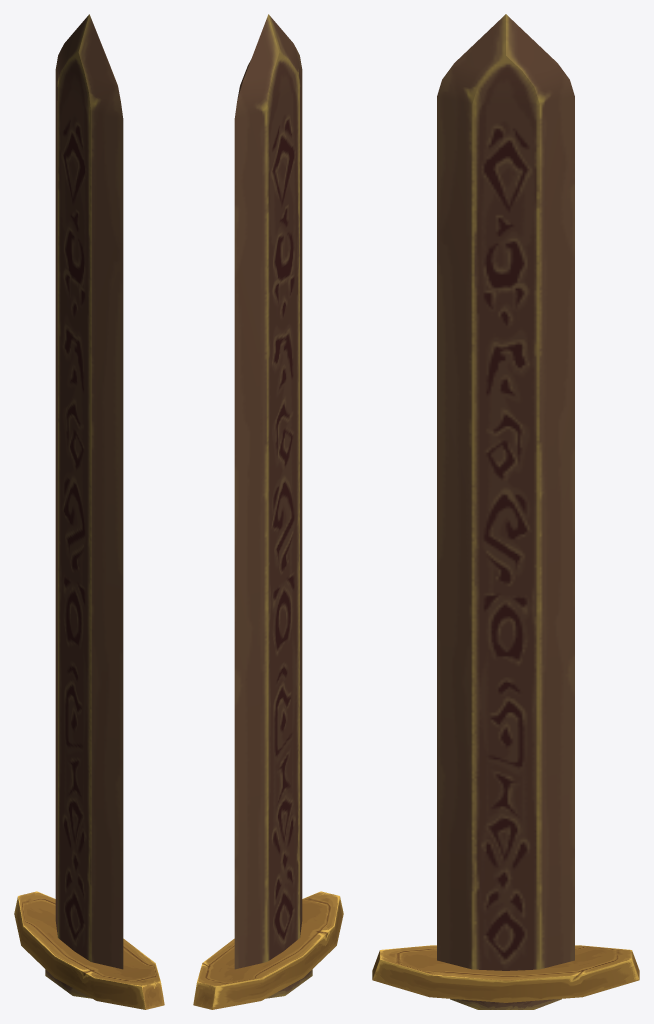
File: SM_WEP_head_sword_battle_17.fbx
The picture shows the model from 3 angles, left to right: view 1: azimuth 30°, elevation 25°; view 2: azimuth 150°, elevation 25°; view 3: azimuth 270°, elevation 25°; orthographic projection.
Parts seen in each view (by area): view 1: SM_WEP_head_sword_battle_17; view 2: SM_WEP_head_sword_battle_17; view 3: SM_WEP_head_sword_battle_17.
Boxes of the visible parts, <box> form: SM_WEP_head_sword_battle_17: <box>14,14,164,1009</box>; SM_WEP_head_sword_battle_17: <box>193,14,343,1009</box>; SM_WEP_head_sword_battle_17: <box>372,14,639,1009</box>.
Size of the model in its own units: 7.64 by 101 by 24.91.
